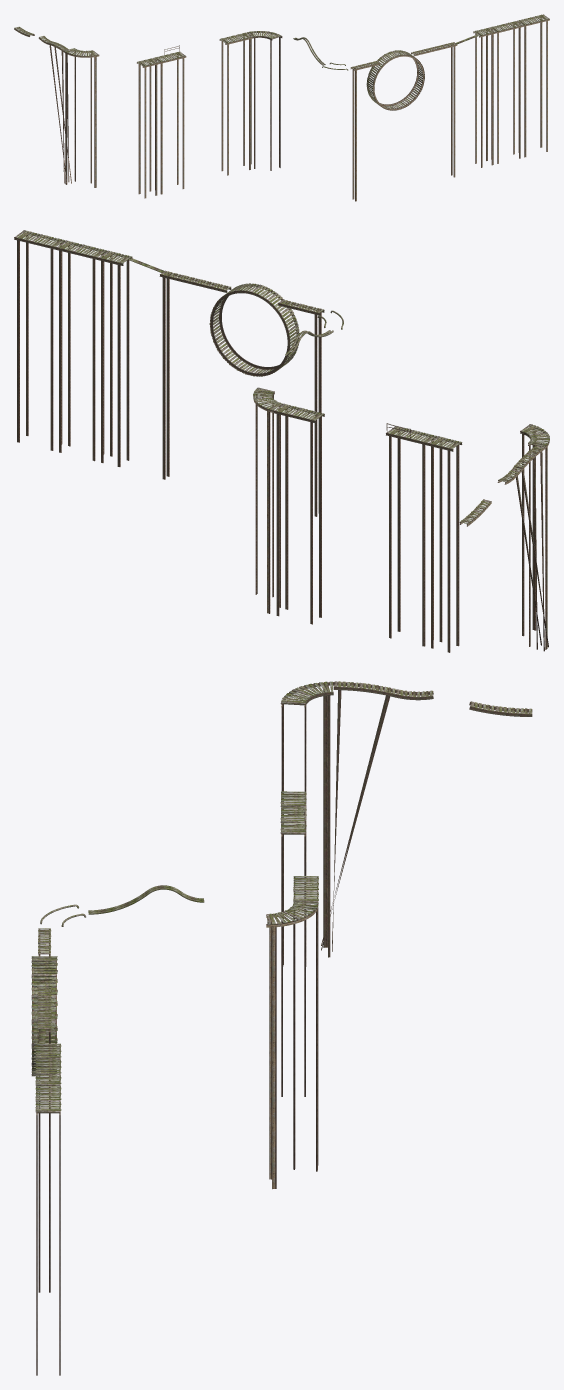
3 views of the same model, one above another, from view 1: azimuth 30°, elevation 25°; view 2: azimuth 150°, elevation 25°; view 3: azimuth 270°, elevation 25° (orthographic). The views are drawn at different scales.
Visible parts, largest first — view 1: StartPlarform, GameObject__22__3, asansor, GameObject__31_, GameObject__24_, GameObject__18_, GameObject__34_, GameObject__25_, GameObject__35_; view 2: StartPlarform, GameObject__22__3, asansor, GameObject__24_, GameObject__18_, GameObject__31_, GameObject__34_, GameObject__25_, GameObject__35_; view 3: GameObject__22__3, GameObject__31_, StartPlarform, GameObject__18_, GameObject__25_, GameObject__24_, GameObject__34_.
Boxes of the visible parts, x1,y1,x2,y2 form: StartPlarform: (473, 14, 549, 167); GameObject__22__3: (219, 31, 282, 175); asansor: (137, 58, 158, 198); GameObject__31_: (64, 48, 99, 187); GameObject__24_: (153, 51, 186, 194); GameObject__18_: (366, 50, 424, 110); GameObject__34_: (411, 42, 457, 177); GameObject__25_: (48, 41, 71, 184); GameObject__35_: (350, 61, 380, 201); StartPlarform: (14, 230, 132, 466); GameObject__22__3: (253, 387, 324, 624); asansor: (427, 436, 462, 652); GameObject__24_: (386, 426, 436, 646); GameObject__18_: (209, 283, 299, 376); GameObject__31_: (520, 424, 549, 649); GameObject__34_: (159, 270, 231, 479); GameObject__25_: (512, 445, 548, 651); GameObject__35_: (278, 299, 324, 516); GameObject__22__3: (266, 876, 318, 1189); GameObject__31_: (280, 681, 333, 966); StartPlarform: (35, 1043, 61, 1375); GameObject__18_: (31, 956, 57, 1076); GameObject__25_: (321, 681, 395, 951); GameObject__24_: (280, 807, 306, 1096); GameObject__34_: (38, 987, 51, 1292).
Size of the model in its own units: 7580 by 2730 by 3985.
